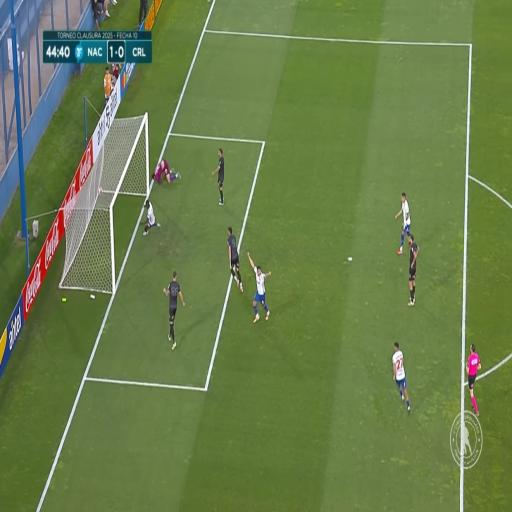Ball: (98, 187, 102, 197)
Goalkeeper: (150, 158, 182, 184)
Player: (390, 337, 413, 414), (165, 269, 185, 349), (224, 224, 246, 293), (394, 192, 414, 256), (251, 264, 268, 326), (407, 234, 419, 312), (143, 196, 161, 239), (215, 145, 226, 210)
Referee: (465, 343, 484, 415)
